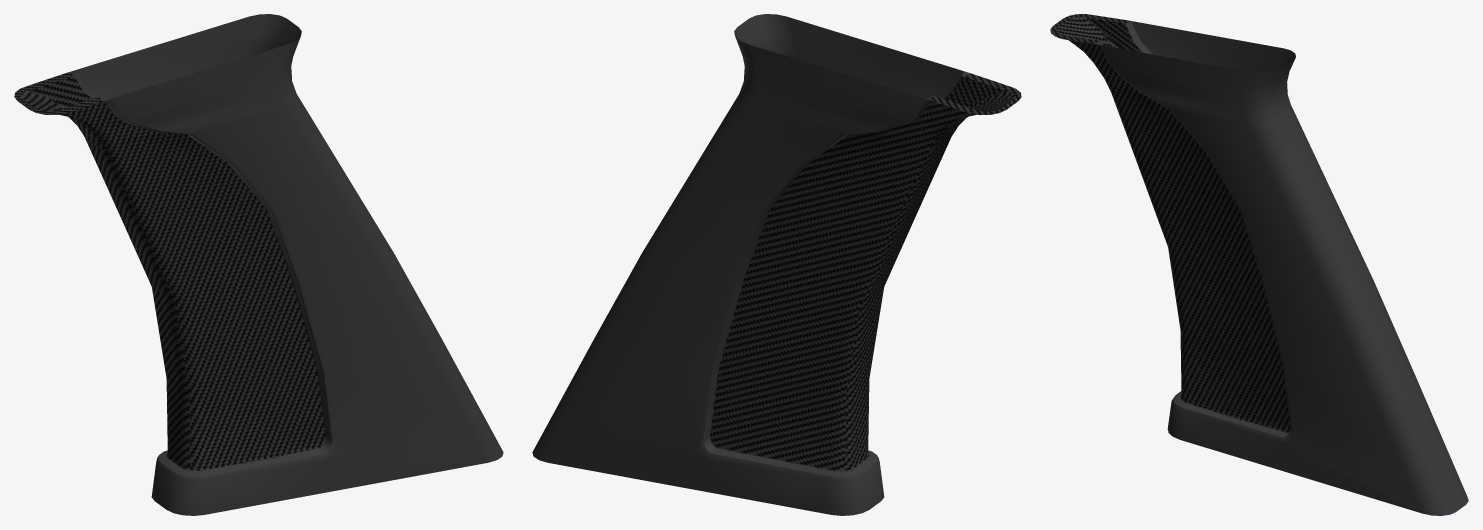
Rendered from shouba——01.fbx.
3 renders of one model, left to right at view 1: azimuth 30°, elevation 25°; view 2: azimuth 150°, elevation 25°; view 3: azimuth 330°, elevation 25°, orthographic. The views are drawn at different scales.
Visible parts, largest first — view 1: 平面.016; view 2: 平面.016; view 3: 平面.016.
Part boxes in pixels (x1,y1,x2,y2): 平面.016: (14,14,503,515); 平面.016: (532,14,1021,515); 平面.016: (1050,14,1468,515).
Bounding box in the file's own units: 93.9 × 89.57 × 13.15.
